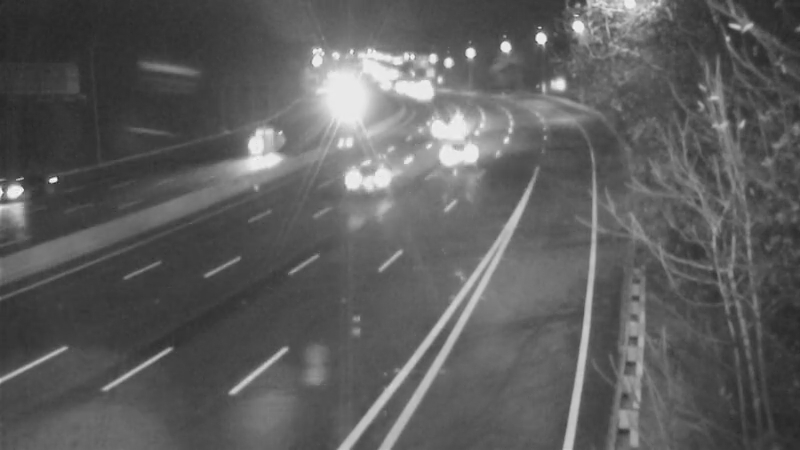vehicle: (421, 117, 501, 197), (314, 135, 394, 215), (1, 149, 73, 229), (396, 68, 446, 118), (416, 104, 466, 154), (227, 119, 277, 169), (320, 84, 370, 134)
